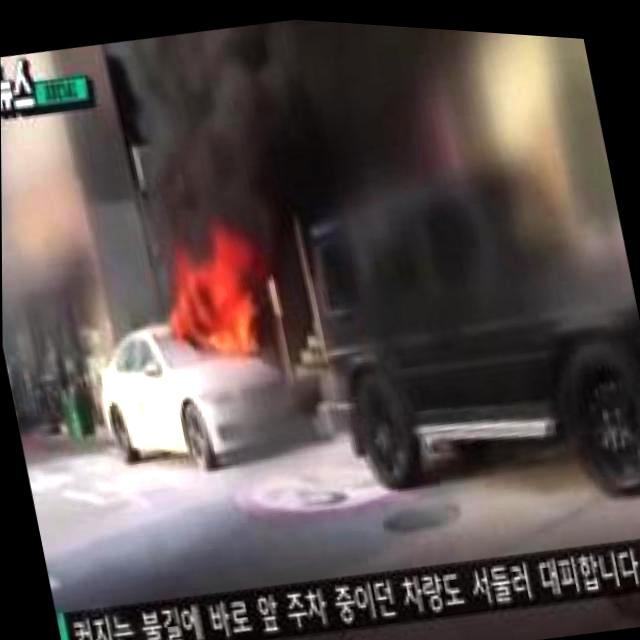fire: (168, 244, 260, 362)
